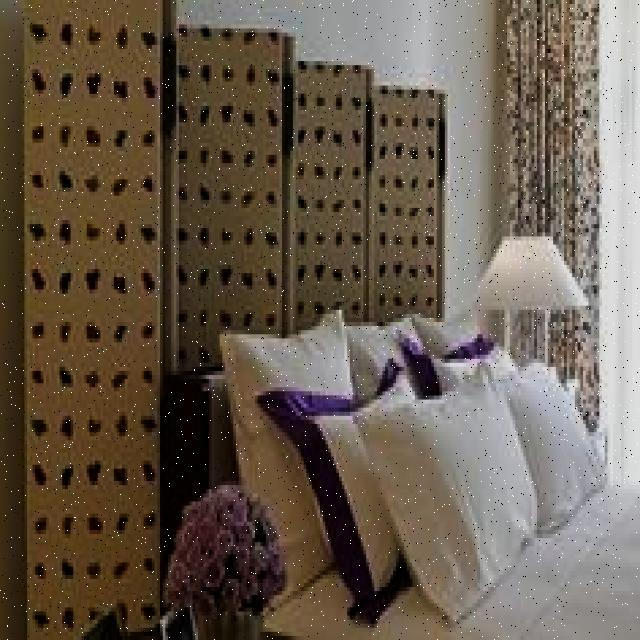bed: (173, 318, 640, 640)
